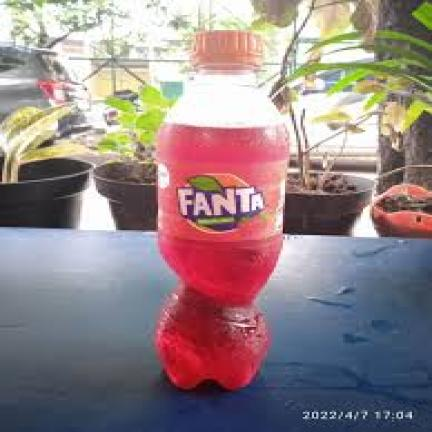container: (156, 33, 287, 389)
fluid: (156, 123, 285, 389)
fluid-surface: (165, 112, 287, 127)
